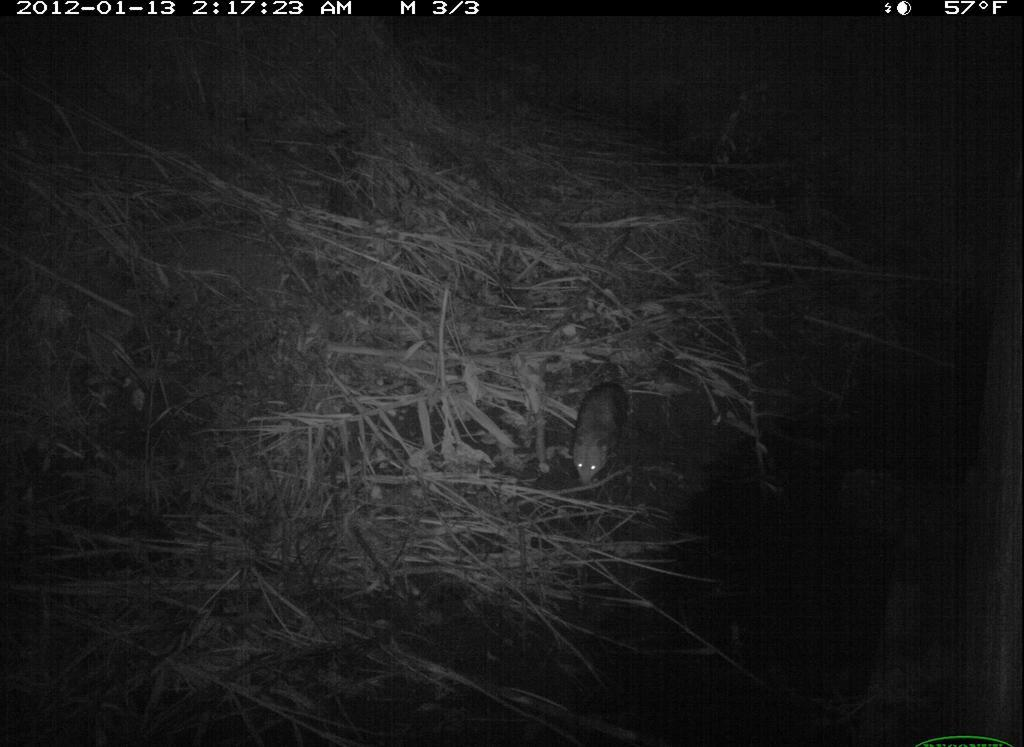opossum: (556, 345, 645, 491)
